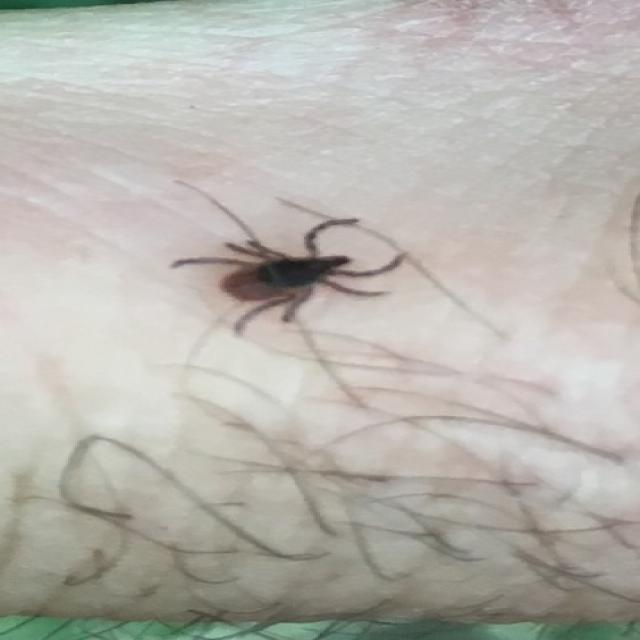Ixodes Ricinus-F: (168, 219, 406, 338)
